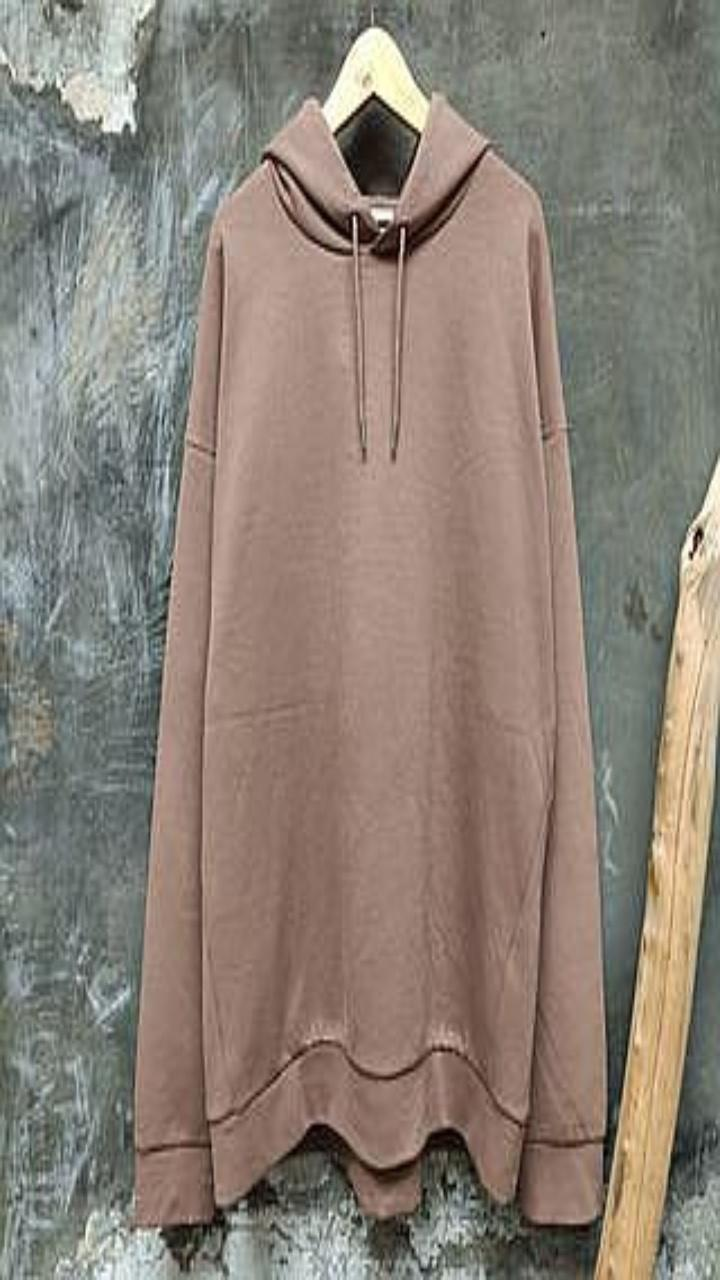Hoodie: (134, 92, 606, 1225)
